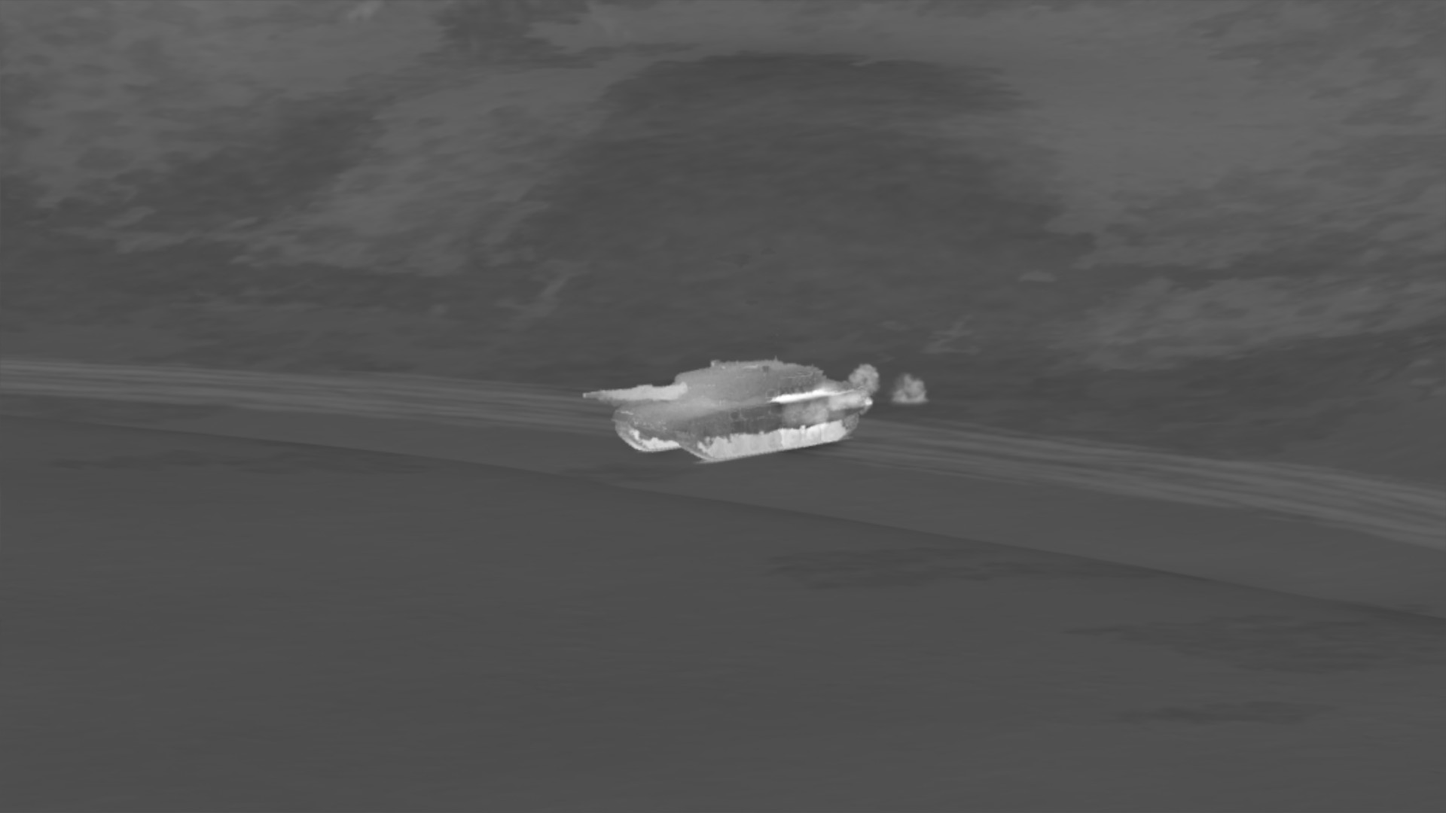leopard2: (582, 359, 873, 462)
